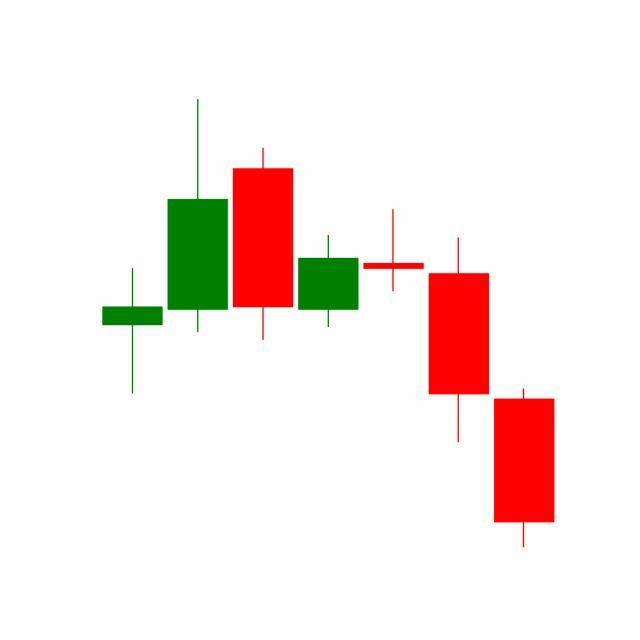Hikkake Pattern: (165, 99, 492, 448)
